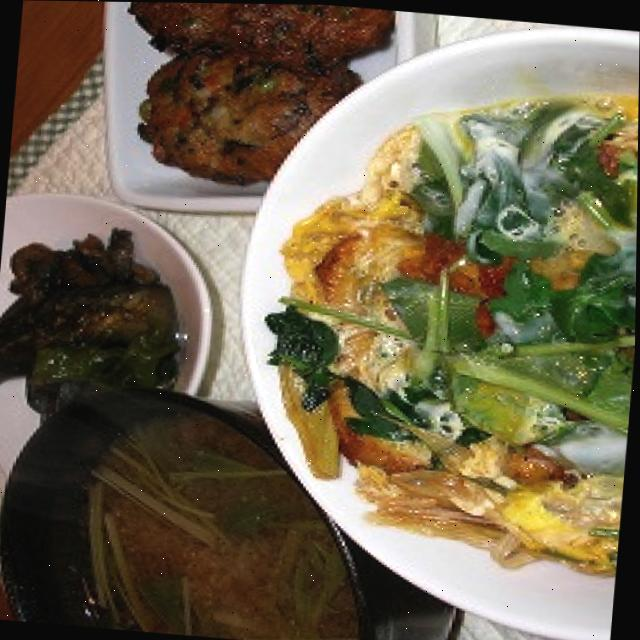熟制海鲜: (105, 1, 382, 177)
